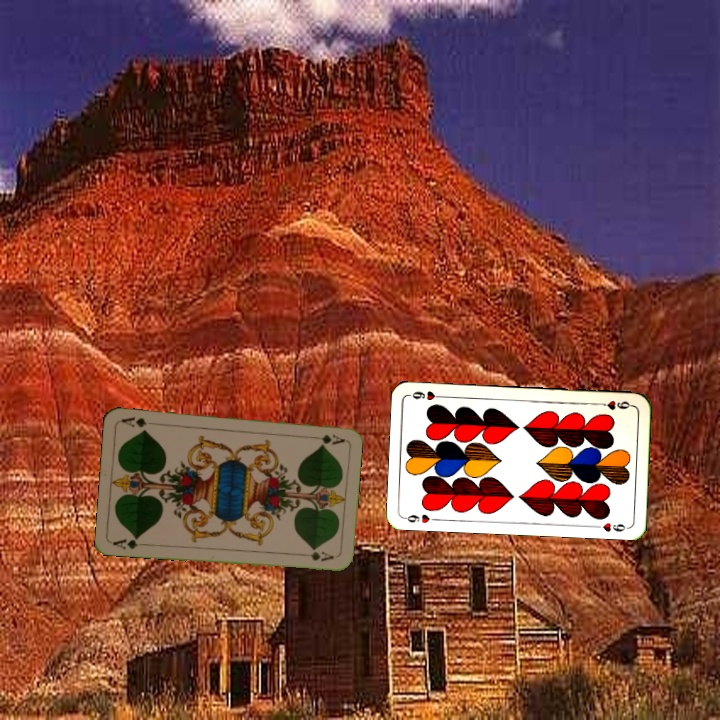GA: (109, 533, 150, 552), (306, 431, 346, 446)
H9: (595, 396, 635, 412), (401, 510, 432, 526)
